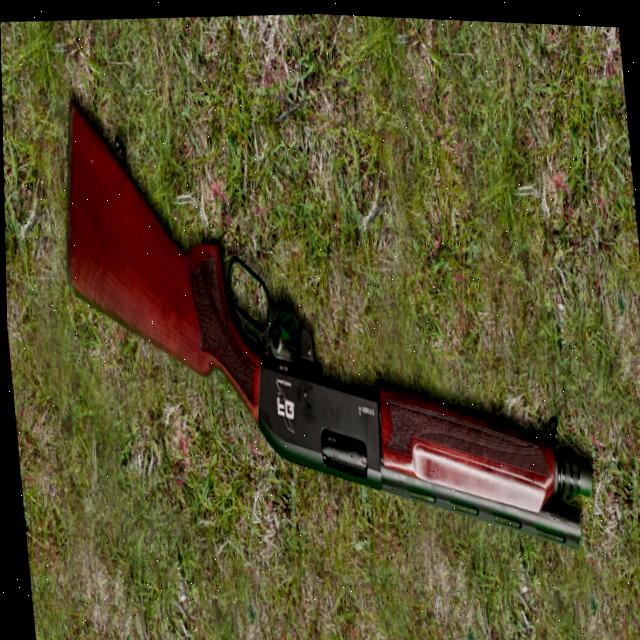firearm: (48, 58, 596, 570)
